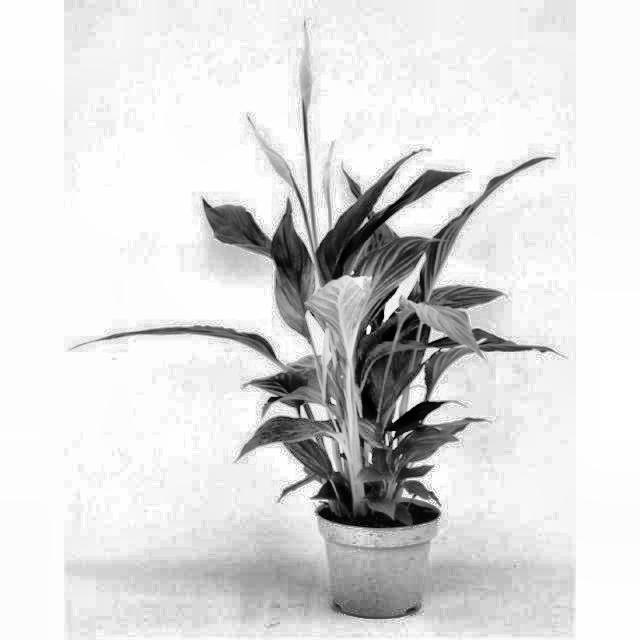plants: (47, 60, 576, 598)
